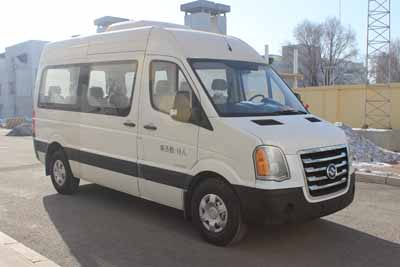midcar: (23, 17, 359, 234)
